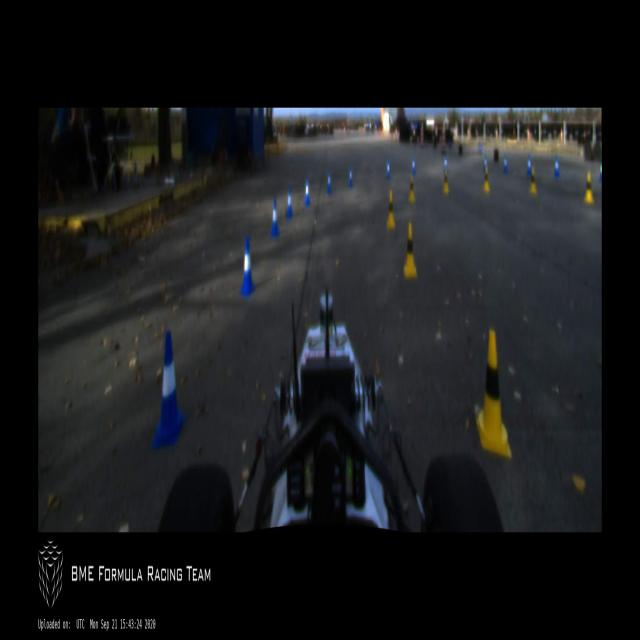blue_cone: (150, 331, 187, 450), (240, 236, 256, 298), (270, 198, 280, 236), (286, 186, 293, 219), (304, 178, 310, 205), (554, 156, 560, 177), (526, 156, 532, 176), (327, 169, 332, 193), (386, 160, 391, 179), (503, 156, 508, 173), (411, 157, 416, 173), (443, 156, 448, 172), (483, 156, 488, 172), (348, 168, 352, 186), (599, 162, 602, 182)
yellow_cone: (475, 329, 512, 459), (403, 222, 417, 280), (386, 190, 396, 230), (584, 170, 594, 204), (529, 166, 537, 194), (408, 172, 415, 203), (483, 165, 490, 193), (443, 170, 449, 194)
